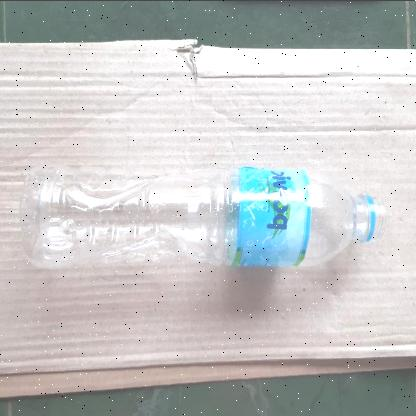Plastic Bottle: (13, 166, 387, 268)
